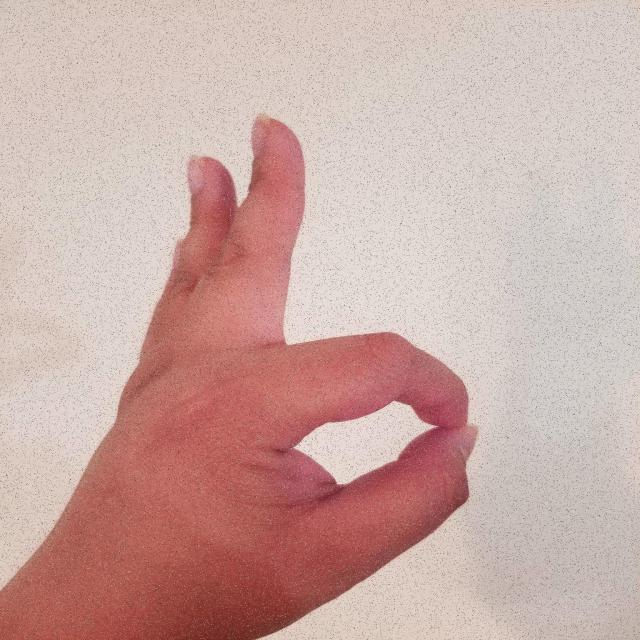F: (18, 104, 494, 640)
